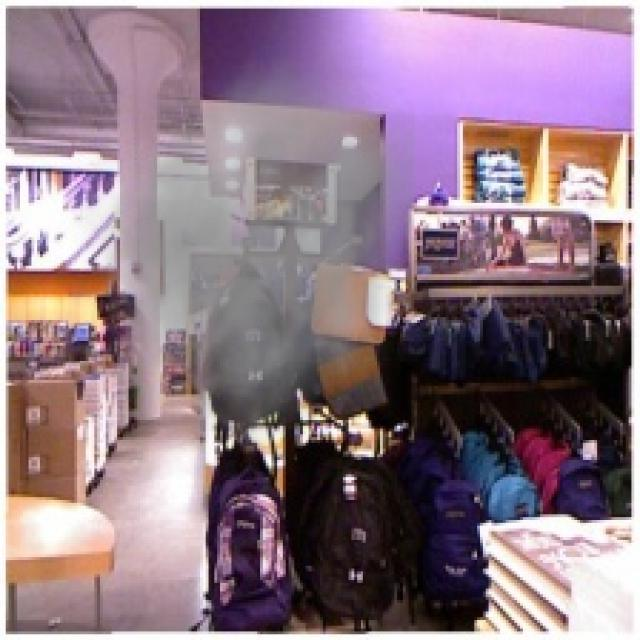Smoke: (66, 40, 414, 463)
